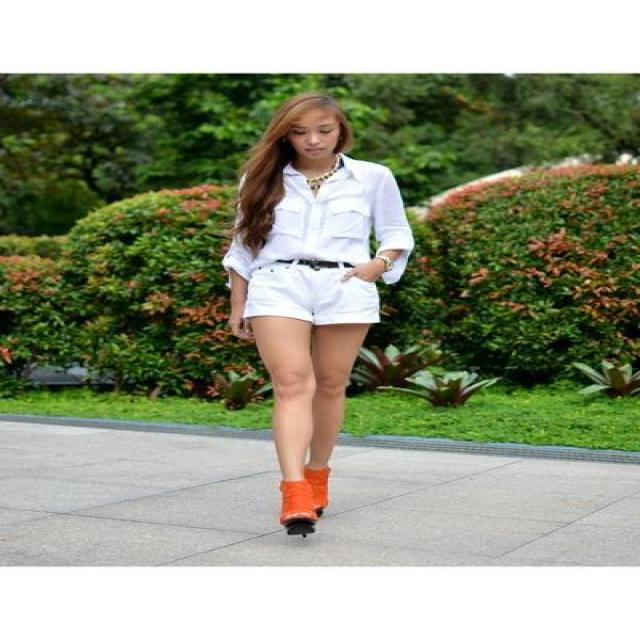dress: (222, 154, 413, 323)
shoe: (280, 465, 330, 521)
